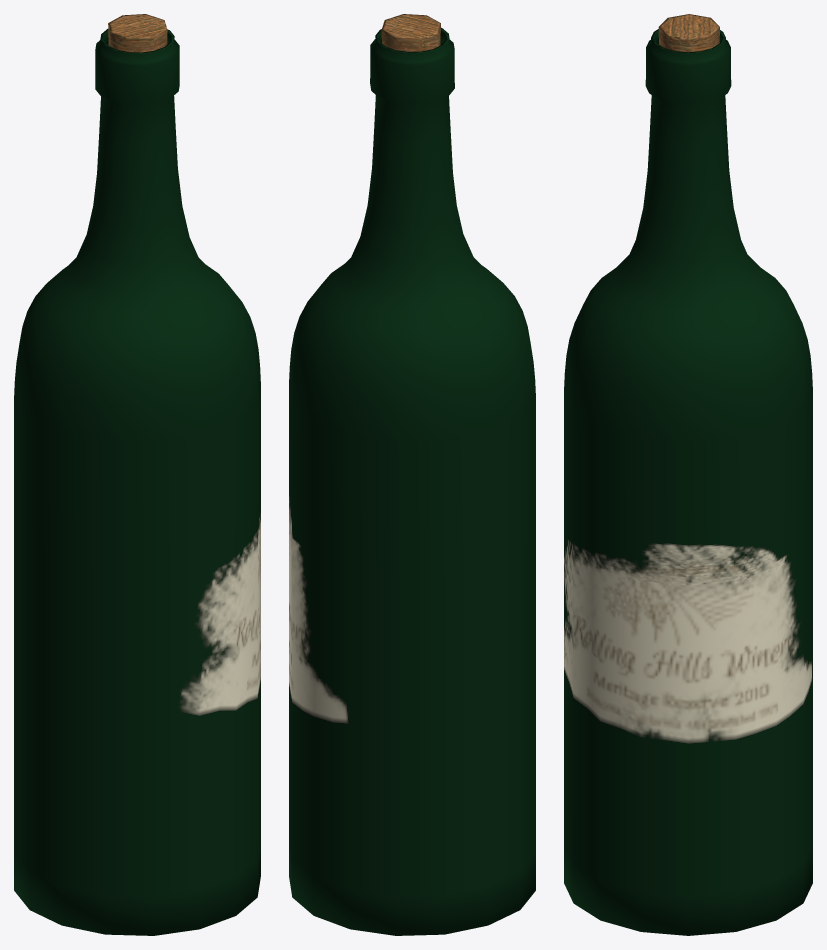
Rendered from bottle 3.fbx.
3 renders of one model, left to right at view 1: azimuth 30°, elevation 25°; view 2: azimuth 150°, elevation 25°; view 3: azimuth 270°, elevation 25°, orthographic.
Parts seen in each view (by area): view 1: bottle 3; view 2: bottle 3; view 3: bottle 3.
Boxes of the visible parts, x1,y1,x2,y2 form: bottle 3: [14, 14, 260, 935]; bottle 3: [289, 14, 535, 935]; bottle 3: [564, 14, 812, 935].
Bounding box in the file's own units: 5.5 × 20.9 × 5.5.
